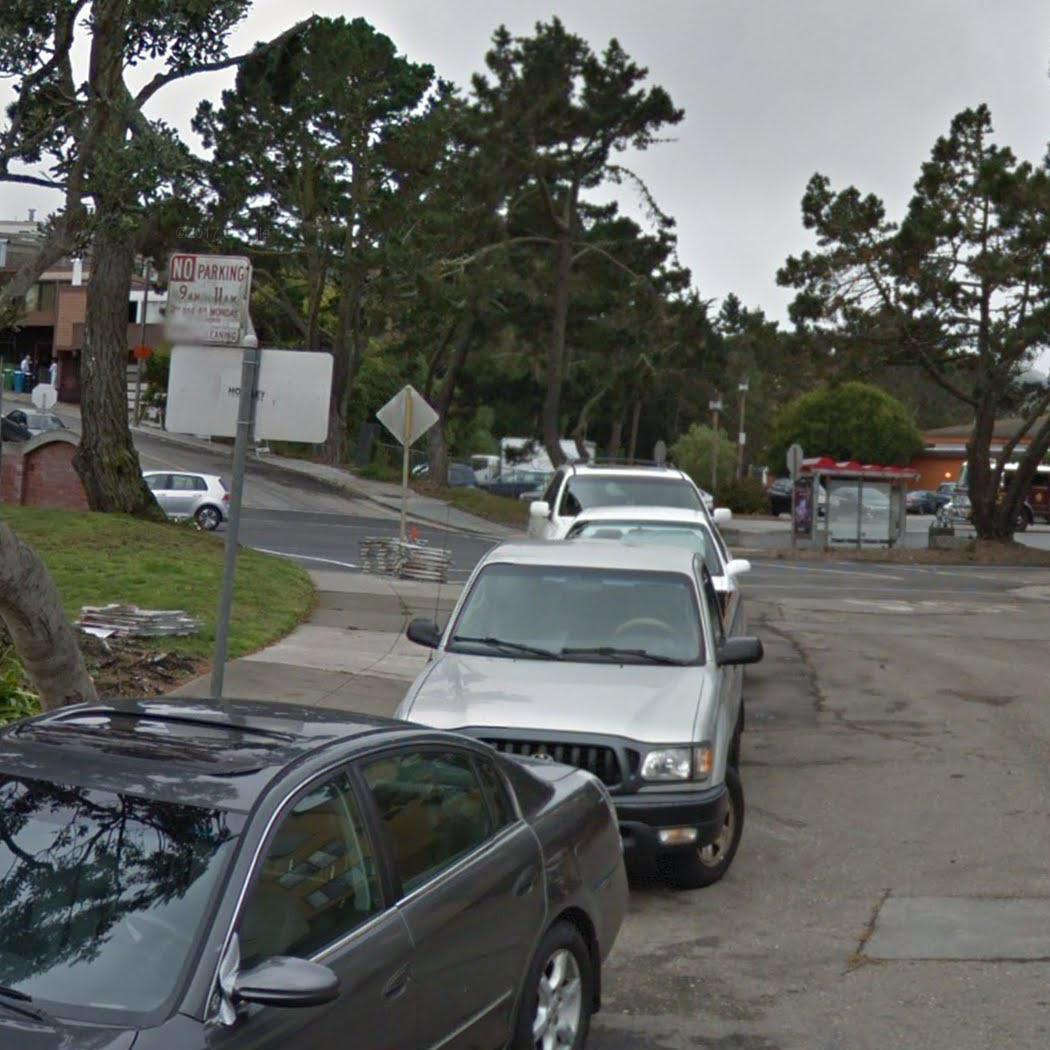No Parking: (161, 249, 257, 346)
